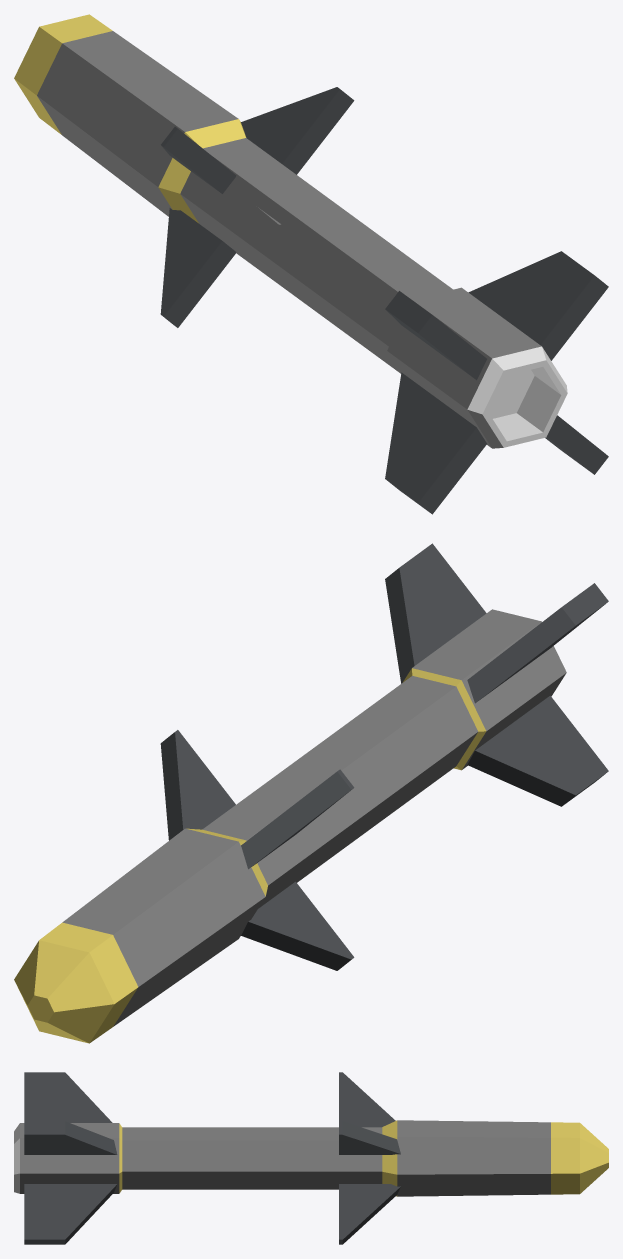
Rendered from rocket.glb.
3 views of the same model, one above another, from view 1: azimuth 30°, elevation 25°; view 2: azimuth 150°, elevation 25°; view 3: azimuth 270°, elevation 25° (orthographic). The views are drawn at different scales.
Parts seen in each view (by area): view 1: rocket; view 2: rocket; view 3: rocket.
Boxes of the visible parts, x1,y1,x2,y2 form: rocket: (14, 14, 608, 514); rocket: (14, 543, 608, 1043); rocket: (14, 1072, 608, 1244).
Bounding box in the file's own units: 0.7725 × 0.7725 × 3.37.
